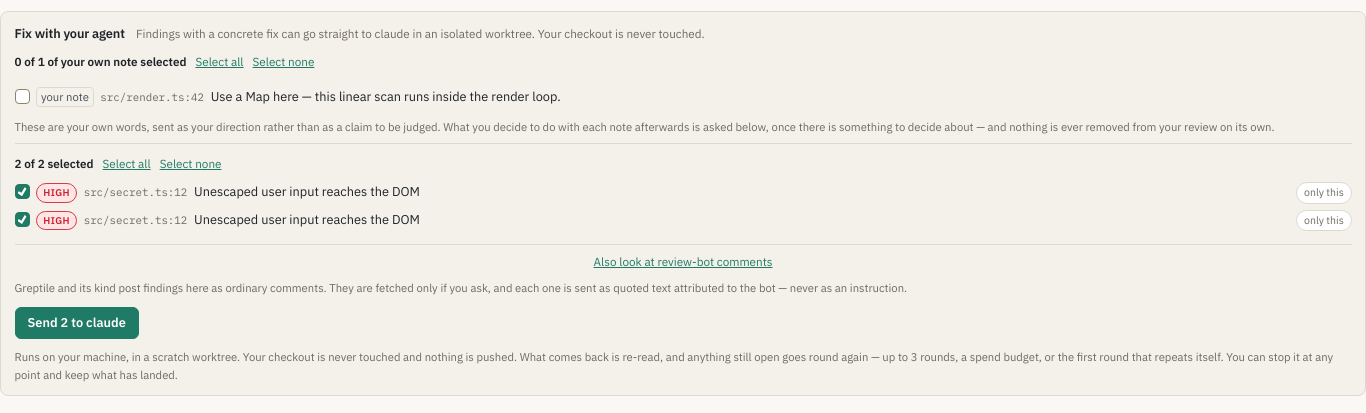
Test case: the reviewer’s own notes in the panel › counts the AI findings on their own line, not muddled with the notes
The width and height of the screenshot is (1366, 413).
Click the checkbox with test id "agent-fix-note-checkbox": [22, 97] box [14, 89, 30, 104]
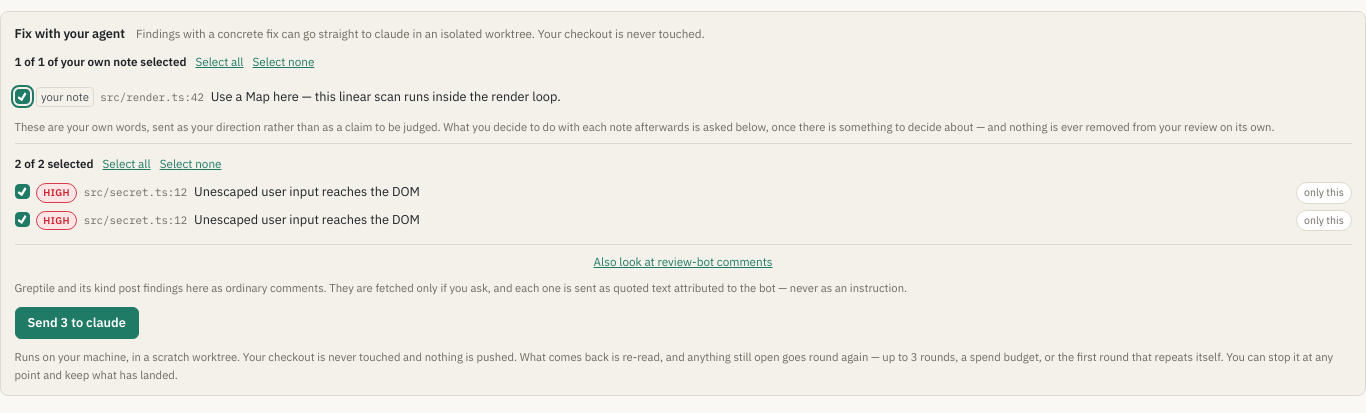
Expected: the text with test id "agent-fix-count" reads "2 of 2 selected", [14, 156, 94, 171]
Now the text with test id "agent-fix-notes-count" shows "1 of 1", box [14, 54, 186, 69]
